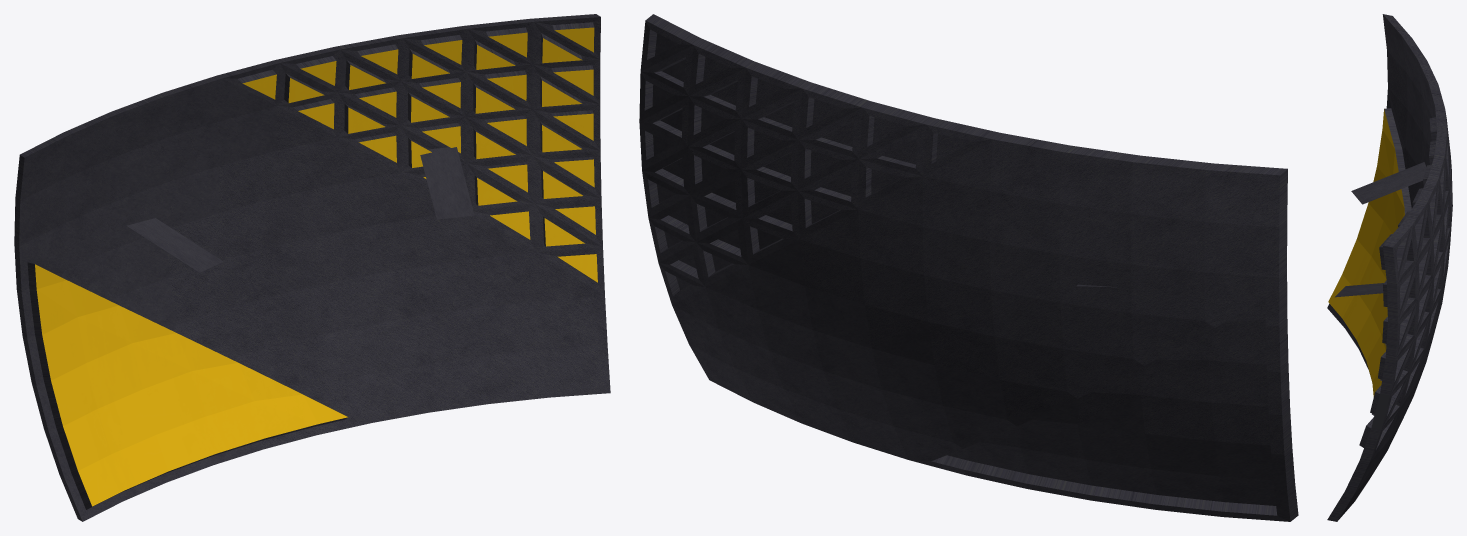
The model's file is Estante.fbx.
3 views of the same model, side by side, from view 1: azimuth 30°, elevation 25°; view 2: azimuth 150°, elevation 25°; view 3: azimuth 270°, elevation 25° (orthographic). The views are drawn at different scales.
Parts seen in each view (by area): view 1: Panel_Mando.002; view 2: Panel_Mando.002; view 3: Panel_Mando.002.
Boxes of the visible parts, x1,y1,x2,y2 form: Panel_Mando.002: [14, 14, 610, 521]; Panel_Mando.002: [639, 14, 1298, 521]; Panel_Mando.002: [1327, 14, 1452, 521].
Size of the model in its own units: 273 by 156 by 62.06.
Materials: 2 (2 with a texture image).
